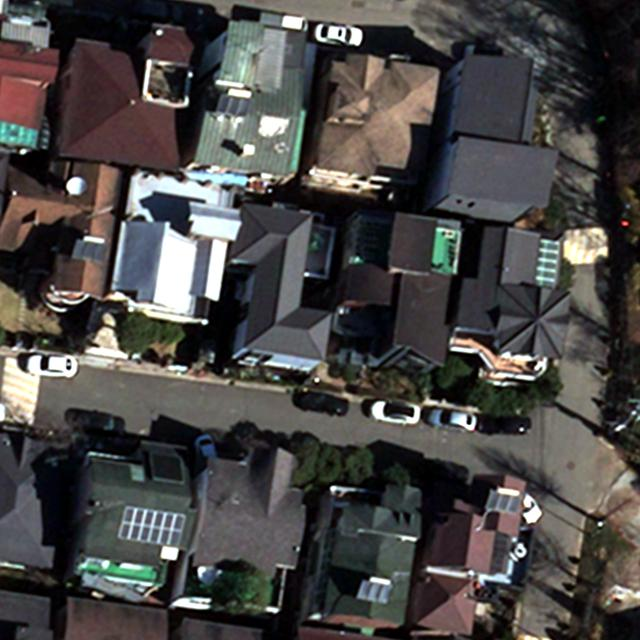panel: (115, 503, 188, 552), (353, 571, 394, 610), (213, 85, 255, 121), (484, 483, 524, 520), (70, 233, 110, 267)
